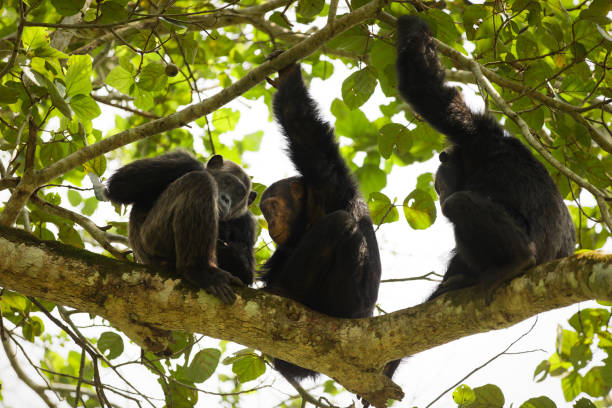chimpanzee: (258, 175, 316, 251)
